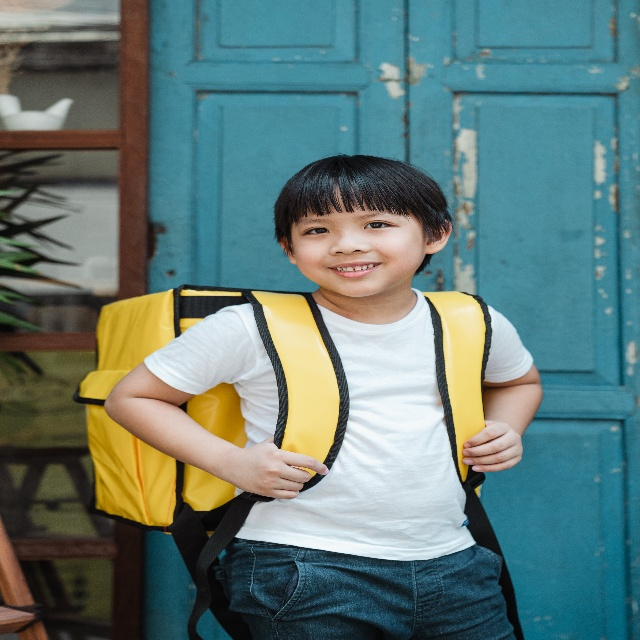Sin_guantes: (244, 439, 329, 493), (463, 415, 523, 470)
